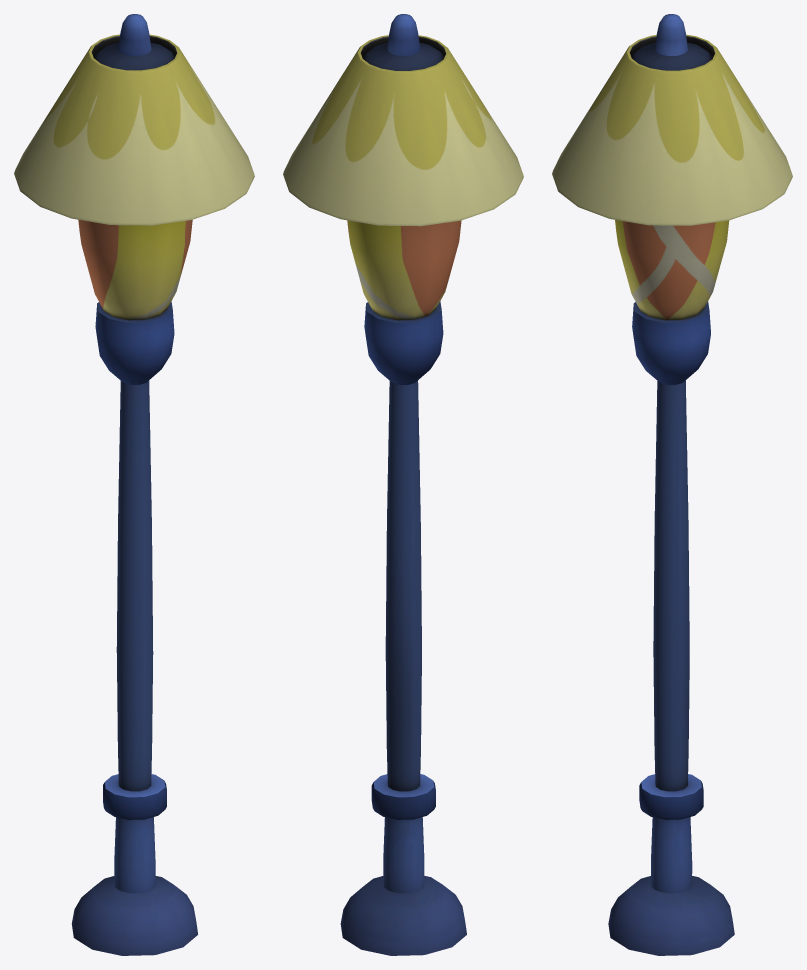
Rendered from standing_lamp.glb.
The picture shows the model from 3 angles, left to right: view 1: azimuth 30°, elevation 25°; view 2: azimuth 150°, elevation 25°; view 3: azimuth 270°, elevation 25°; orthographic projection.
Parts seen in each view (by area): view 1: fc_standing_lamp.smd; view 2: fc_standing_lamp.smd; view 3: fc_standing_lamp.smd.
Boxes of the visible parts, <box> form: fc_standing_lamp.smd: <box>14,14,254,955</box>; fc_standing_lamp.smd: <box>283,14,523,955</box>; fc_standing_lamp.smd: <box>552,14,792,955</box>.
Bounding box in the file's own units: 0.6194 × 2.62 × 0.6261.
Materials: 1 (1 with a texture image).
